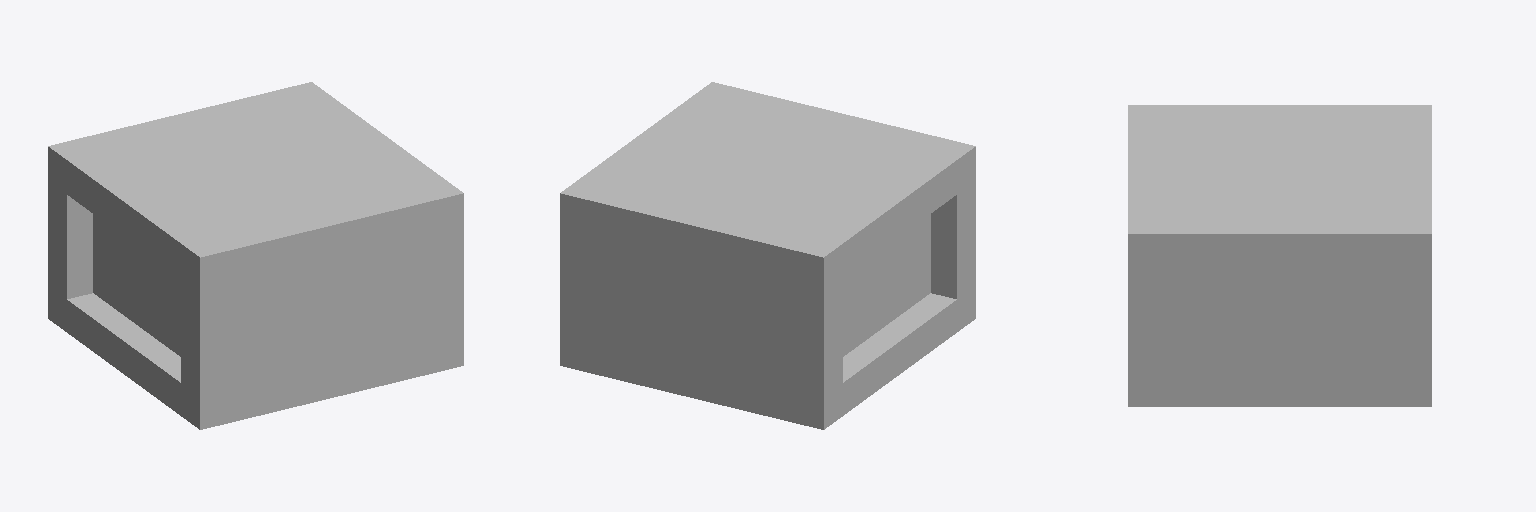
3 views of the same model, side by side, from view 1: azimuth 30°, elevation 25°; view 2: azimuth 150°, elevation 25°; view 3: azimuth 270°, elevation 25° (orthographic).
Visible parts, largest first — view 1: G-__555915_G-__555915_Brick, G-__555915_G-__555915_Glass; view 2: G-__555915_G-__555915_Brick, G-__555915_G-__555915_Glass; view 3: G-__555915_G-__555915_Brick.
Boxes of the visible parts, x1,y1,x2,y2 form: G-__555915_G-__555915_Brick: [48, 82, 463, 429]; G-__555915_G-__555915_Glass: [93, 214, 180, 356]; G-__555915_G-__555915_Brick: [560, 82, 975, 429]; G-__555915_G-__555915_Glass: [843, 214, 930, 356]; G-__555915_G-__555915_Brick: [1128, 105, 1431, 406].
Size of the model in its own units: 1 by 0.625 by 1.